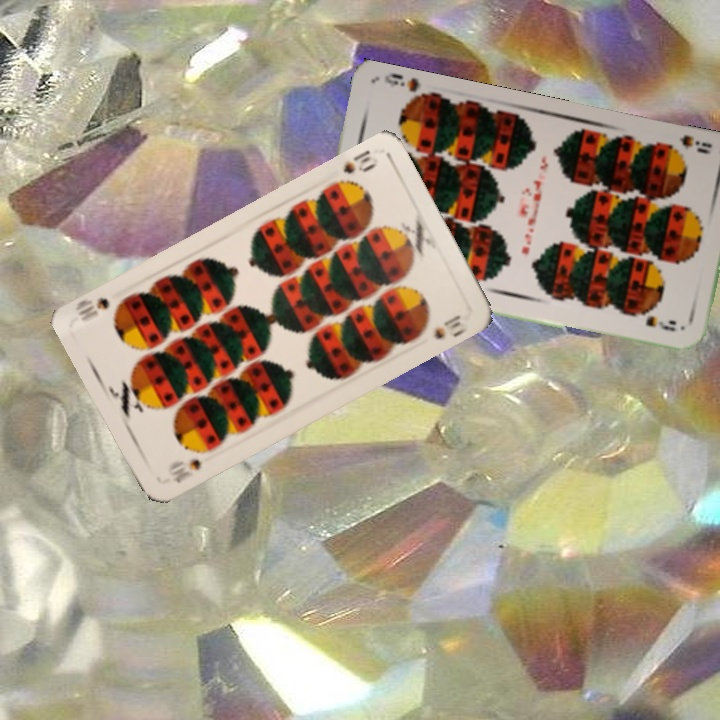S10: (339, 145, 381, 177), (164, 455, 204, 486)
S9: (659, 131, 714, 159)
